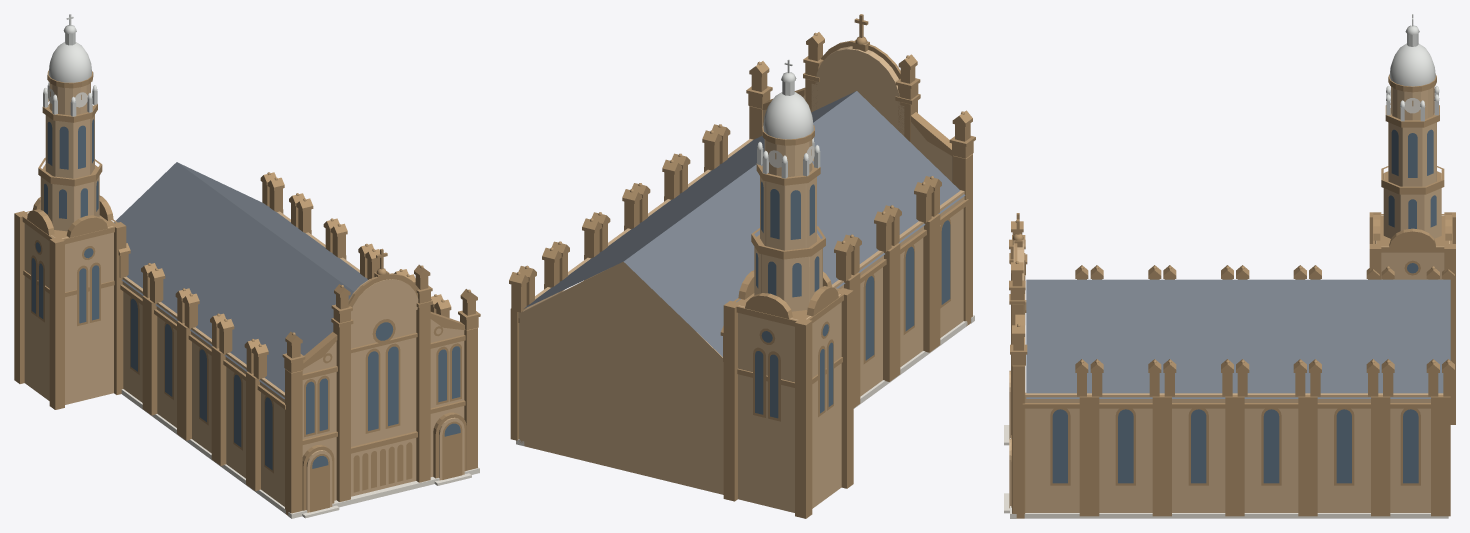
The model's file is nola-st-marys-assumption.glb.
3 renders of one model, left to right at view 1: azimuth 30°, elevation 25°; view 2: azimuth 150°, elevation 25°; view 3: azimuth 270°, elevation 25°, orthographic. The views are drawn at different scales.
Visible parts, largest first — view 1: St. Mary's Assumption Church; view 2: St. Mary's Assumption Church; view 3: St. Mary's Assumption Church.
Boxes of the visible parts, x1=… form: St. Mary's Assumption Church: x1=14, y1=14, x2=480, y2=518; St. Mary's Assumption Church: x1=509, y1=14, x2=975, y2=518; St. Mary's Assumption Church: x1=1004, y1=14, x2=1455, y2=518.
Size of the model in its own units: 32.25 by 44.6 by 46.55.
